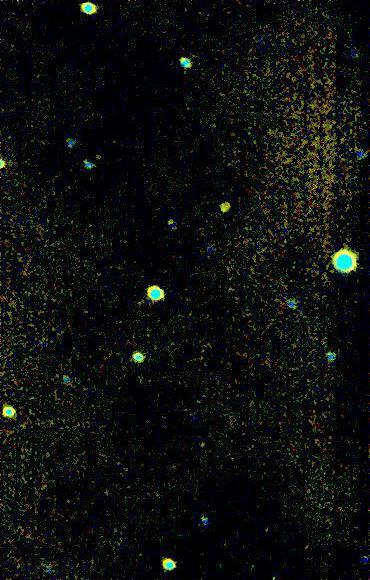star: (216, 191, 246, 221)
